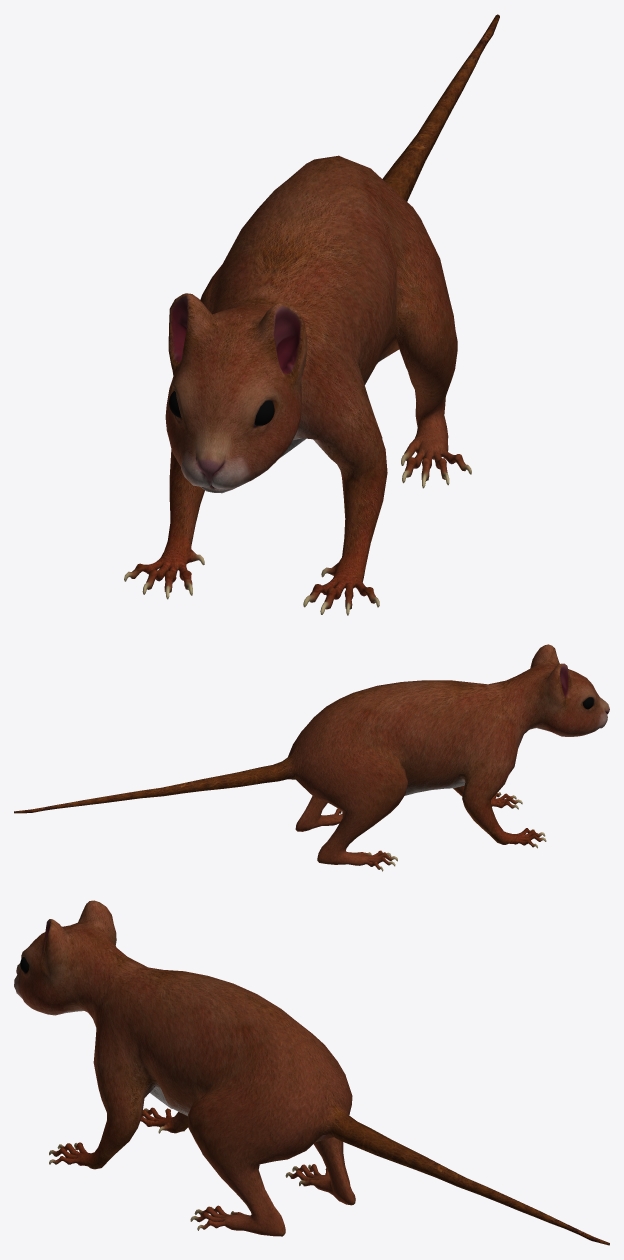
Rendered from squirrel.glb.
The picture shows the model from 3 angles, top to bottom: view 1: azimuth 30°, elevation 25°; view 2: azimuth 150°, elevation 25°; view 3: azimuth 270°, elevation 25°; orthographic projection. The views are drawn at different scales.
Parts seen in each view (by area): view 1: Squirrel.002_0; view 2: Squirrel.002_0; view 3: Squirrel.002_0.
Part boxes in pixels (x1=…): Squirrel.002_0: x1=124, y1=14, x2=499, y2=615; Squirrel.002_0: x1=14, y1=644, x2=609, y2=871; Squirrel.002_0: x1=14, y1=900, x2=609, y2=1245.
Size of the model in its own units: 3.47 by 1.45 by 3.65.
2 materials, 1 textured.
